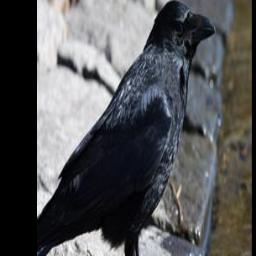Crow: (39, 0, 219, 256)
